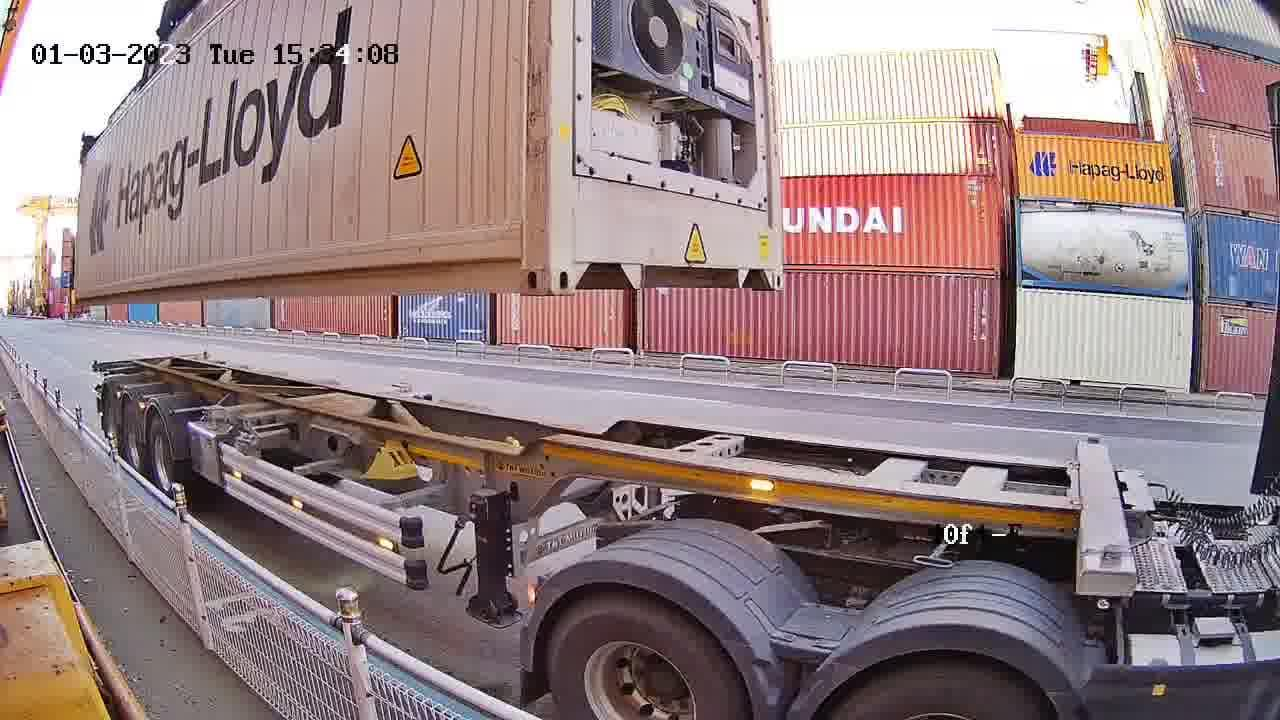Hole_L: (549, 229, 601, 296)
Hole_R: (490, 230, 549, 296), (750, 249, 783, 291)
Tire: (147, 419, 174, 510), (120, 402, 140, 481), (104, 387, 119, 442)
